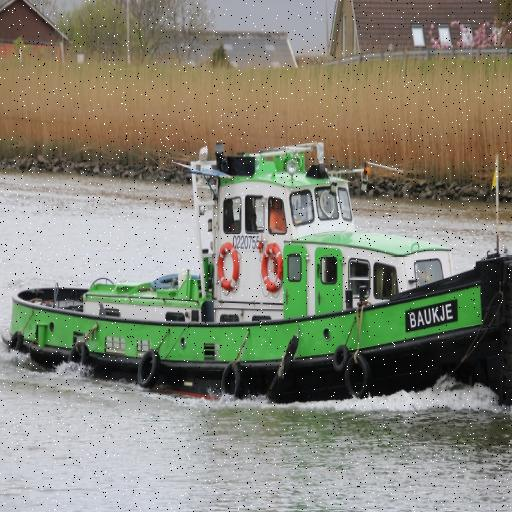tugboat: (1, 132, 512, 440)
